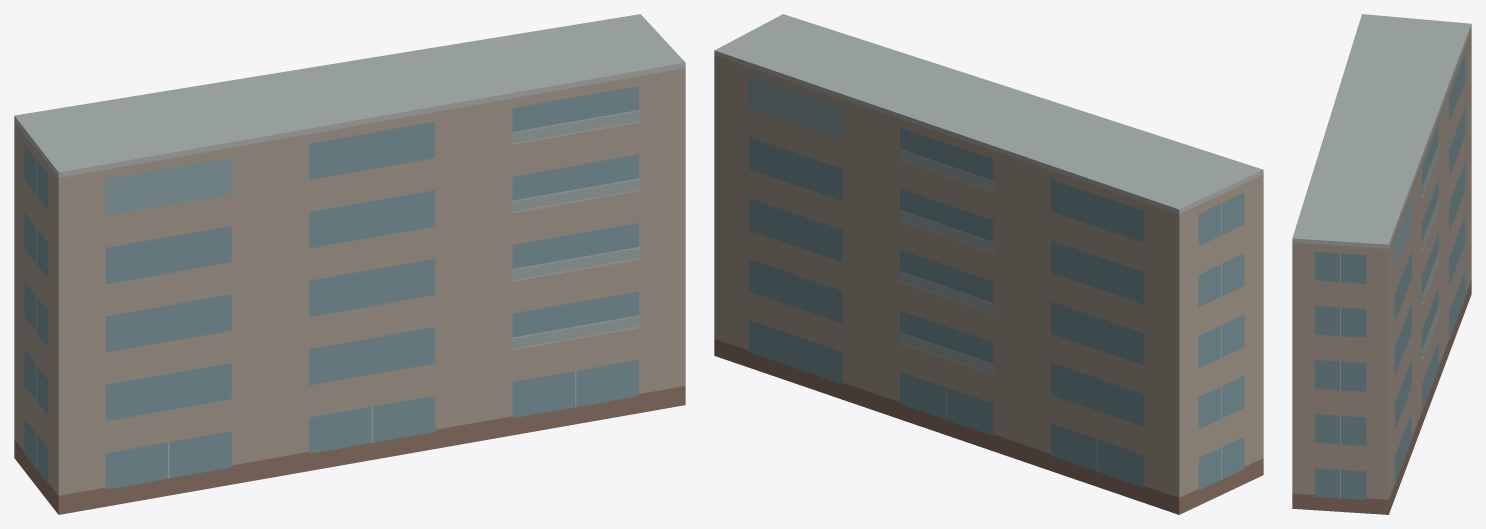
Rendered from survey-upis-32639723.glb.
3 views of the same model, side by side, from view 1: azimuth 30°, elevation 25°; view 2: azimuth 150°, elevation 25°; view 3: azimuth 270°, elevation 25° (orthographic). The views are drawn at different scales.
Parts seen in each view (by area): view 1: survey-upis-32639723.tmp; view 2: survey-upis-32639723.tmp; view 3: survey-upis-32639723.tmp.
Part boxes in pixels (bbox=[...]): survey-upis-32639723.tmp: bbox=[14, 14, 685, 514]; survey-upis-32639723.tmp: bbox=[714, 14, 1263, 514]; survey-upis-32639723.tmp: bbox=[1292, 14, 1471, 514].
Size of the model in its own units: 27.92 by 15.25 by 9.18.
